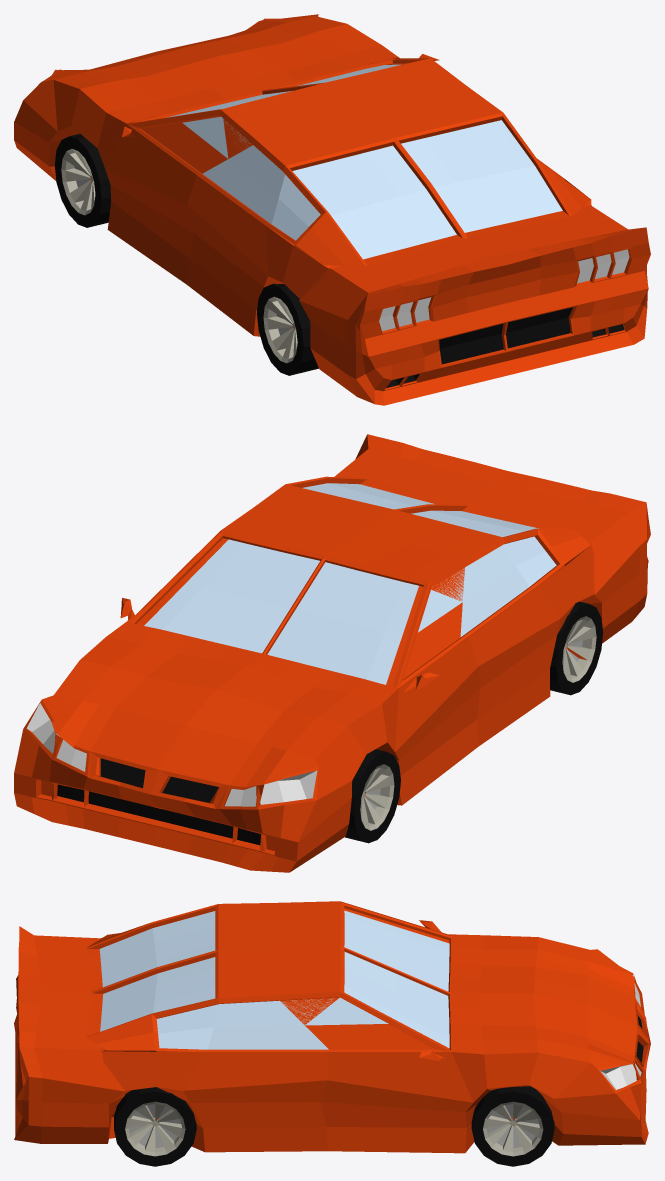
File: auto2.fbx
The picture shows the model from 3 angles, top to bottom: view 1: azimuth 30°, elevation 25°; view 2: azimuth 150°, elevation 25°; view 3: azimuth 270°, elevation 25°; orthographic projection. The views are drawn at different scales.
Visible parts, largest first — view 1: Cube; view 2: Cube; view 3: Cube.
Part boxes in pixels (x1=…): Cube: x1=14, y1=14, x2=650, y2=405; Cube: x1=14, y1=434, x2=650, y2=872; Cube: x1=14, y1=901, x2=650, y2=1166.
Bounding box in the file's own units: 619 × 329 × 1214.
